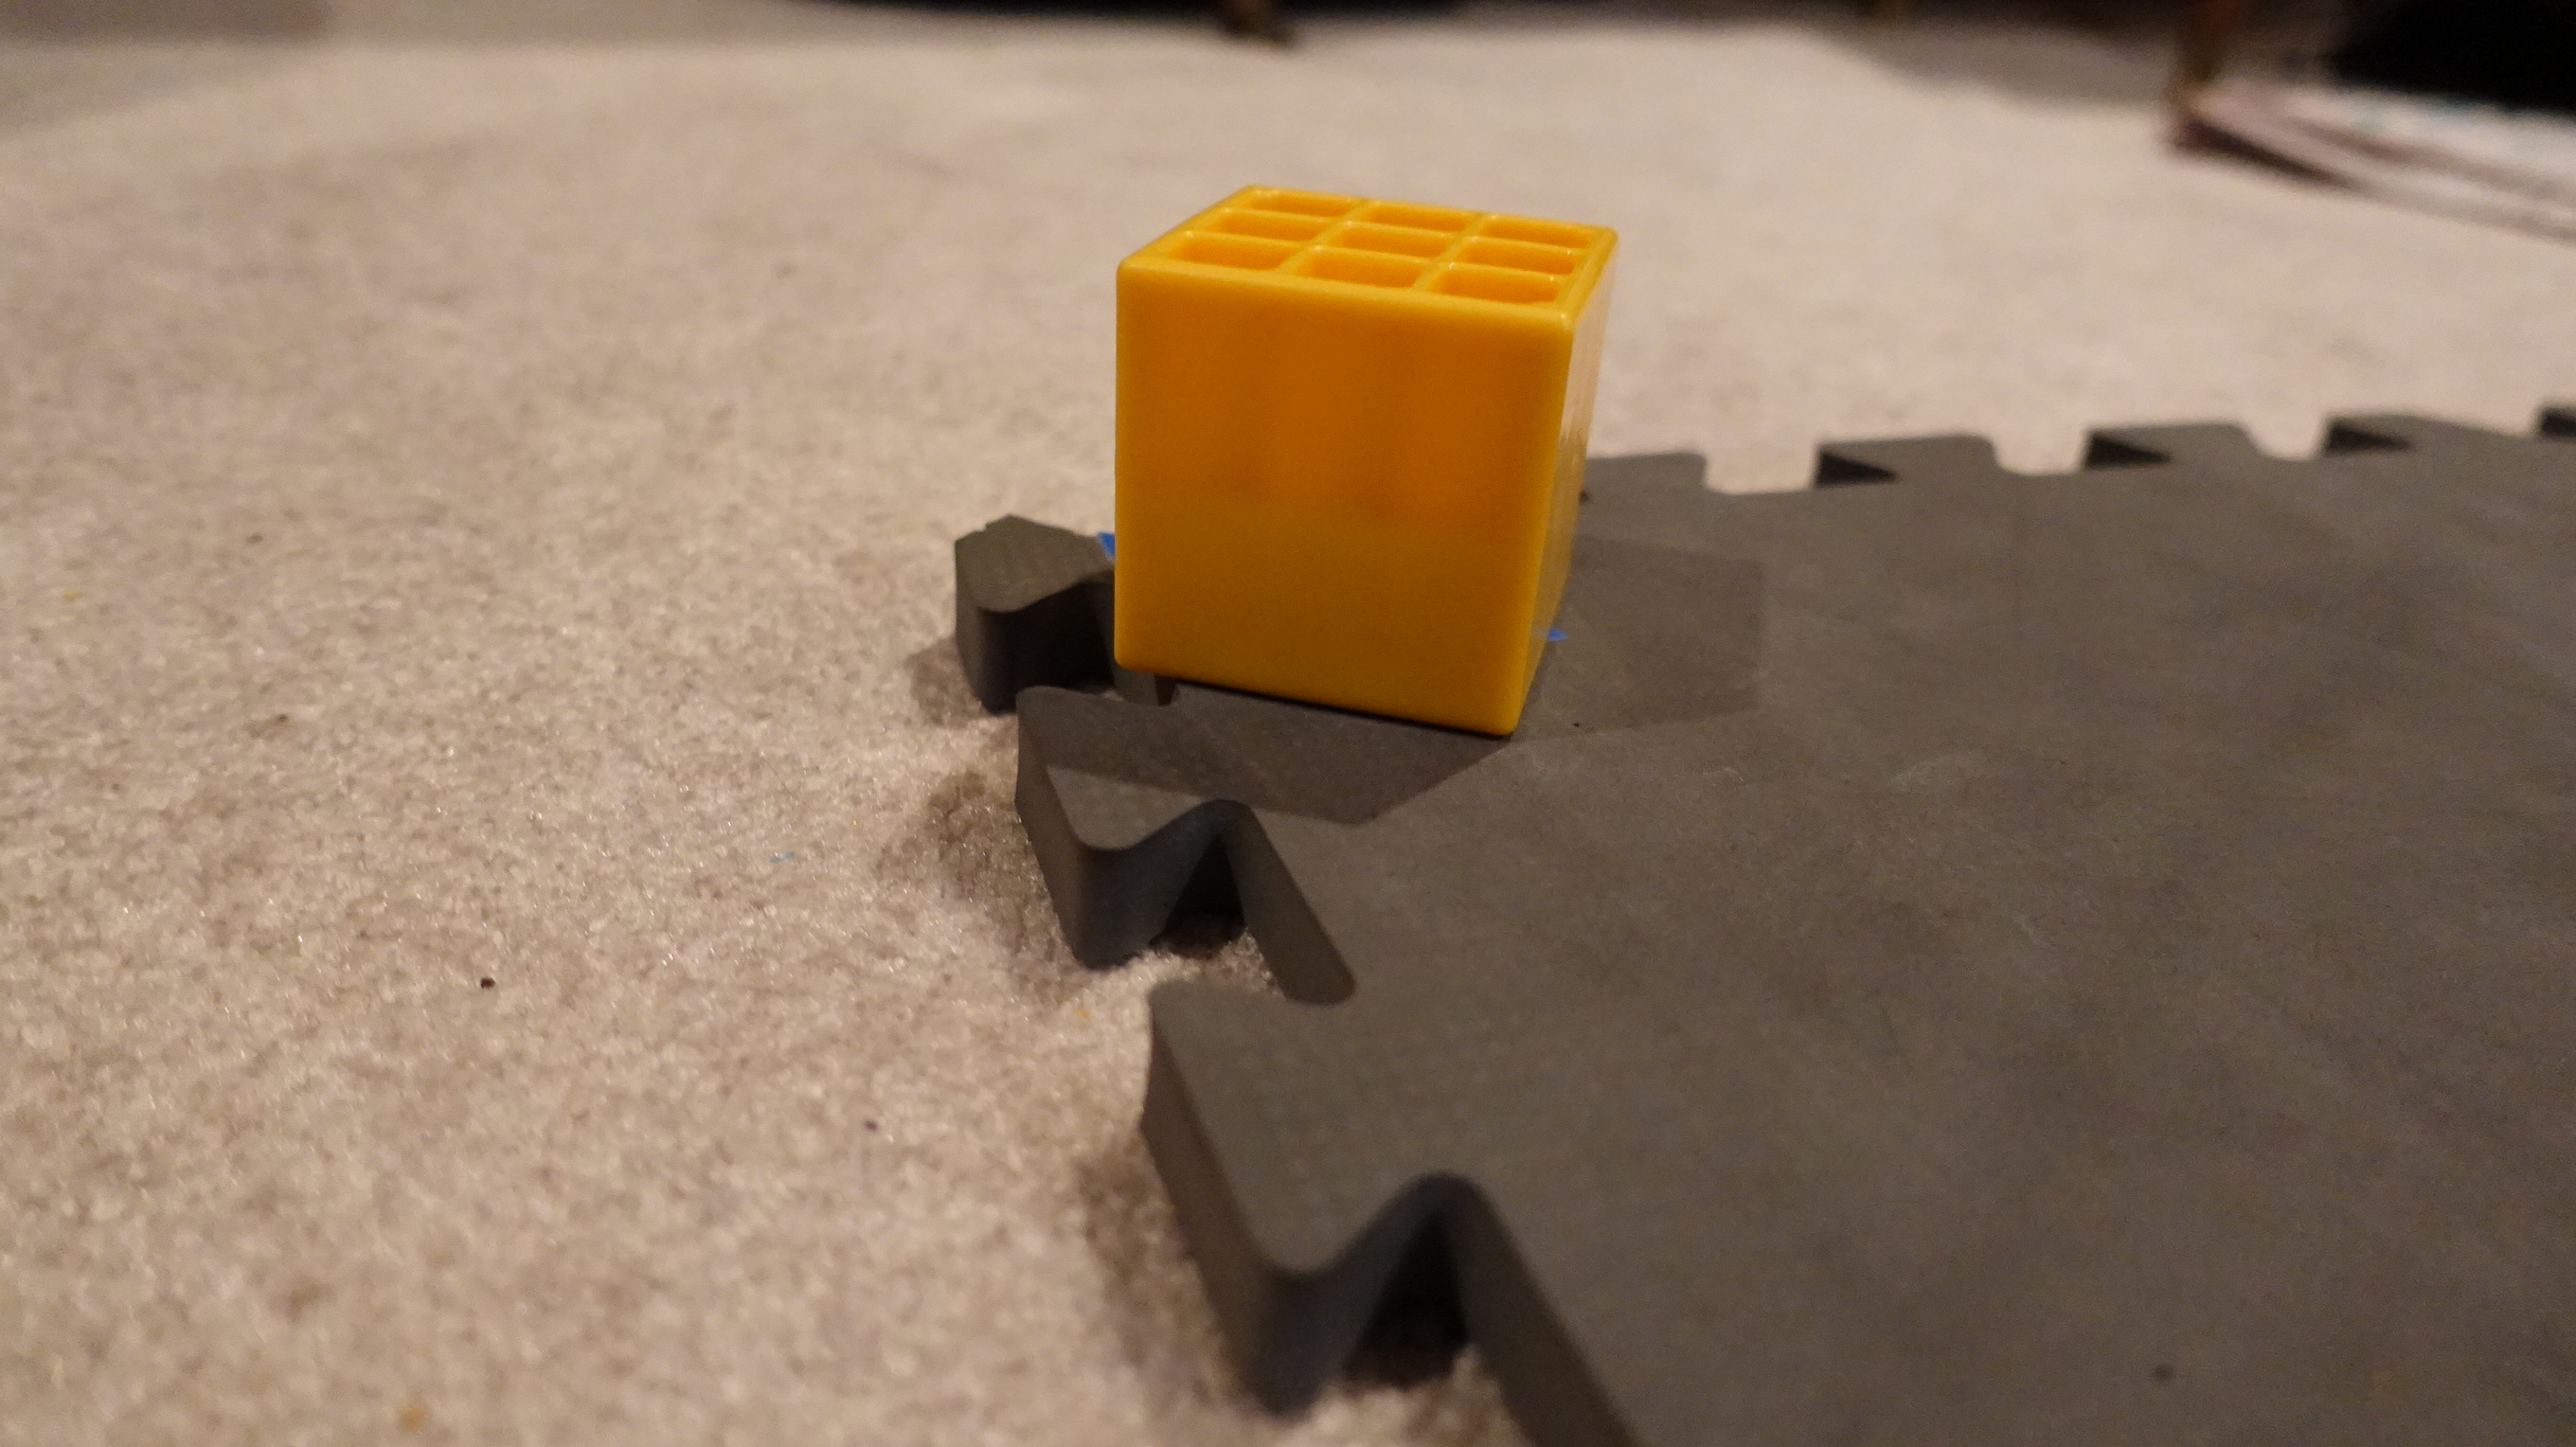gold: (1097, 166, 1626, 734)
